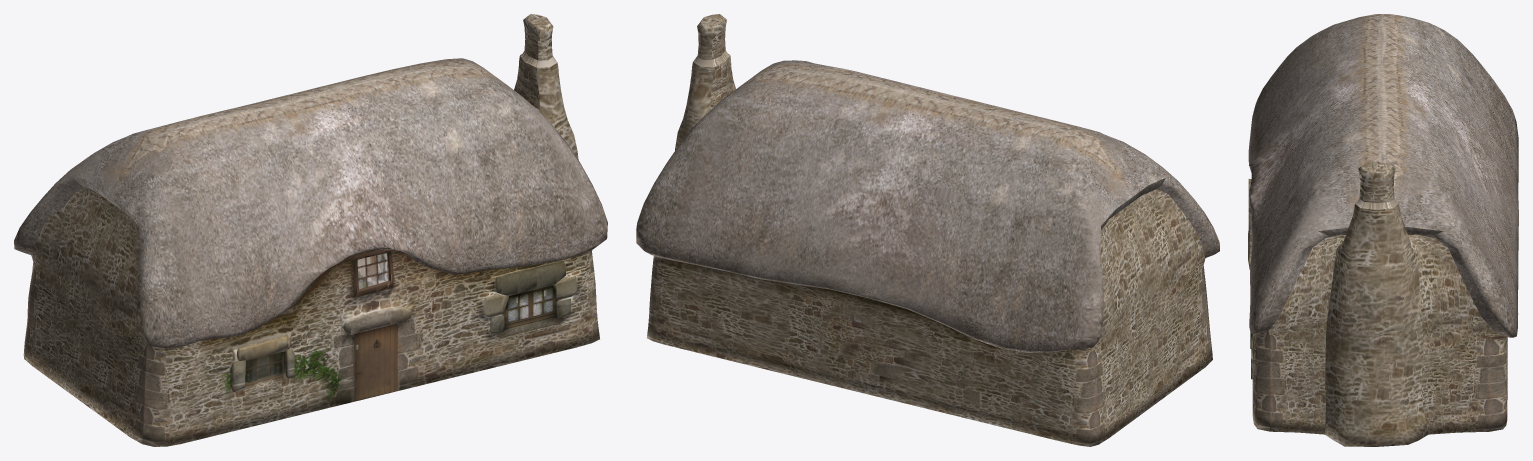
File: mruhse1.fbx
3 views of the same model, side by side, from view 1: azimuth 30°, elevation 25°; view 2: azimuth 150°, elevation 25°; view 3: azimuth 270°, elevation 25° (orthographic). The views are drawn at different scales.
Visible parts, largest first — view 1: U3DMesh; view 2: U3DMesh; view 3: U3DMesh.
Boxes of the visible parts, bbox=[...] form: U3DMesh: bbox=[14, 14, 607, 446]; U3DMesh: bbox=[636, 14, 1219, 446]; U3DMesh: bbox=[1248, 14, 1518, 446].
Bounding box in the file's own units: 520 × 274 × 254.
Materials: 1 (1 with a texture image).
